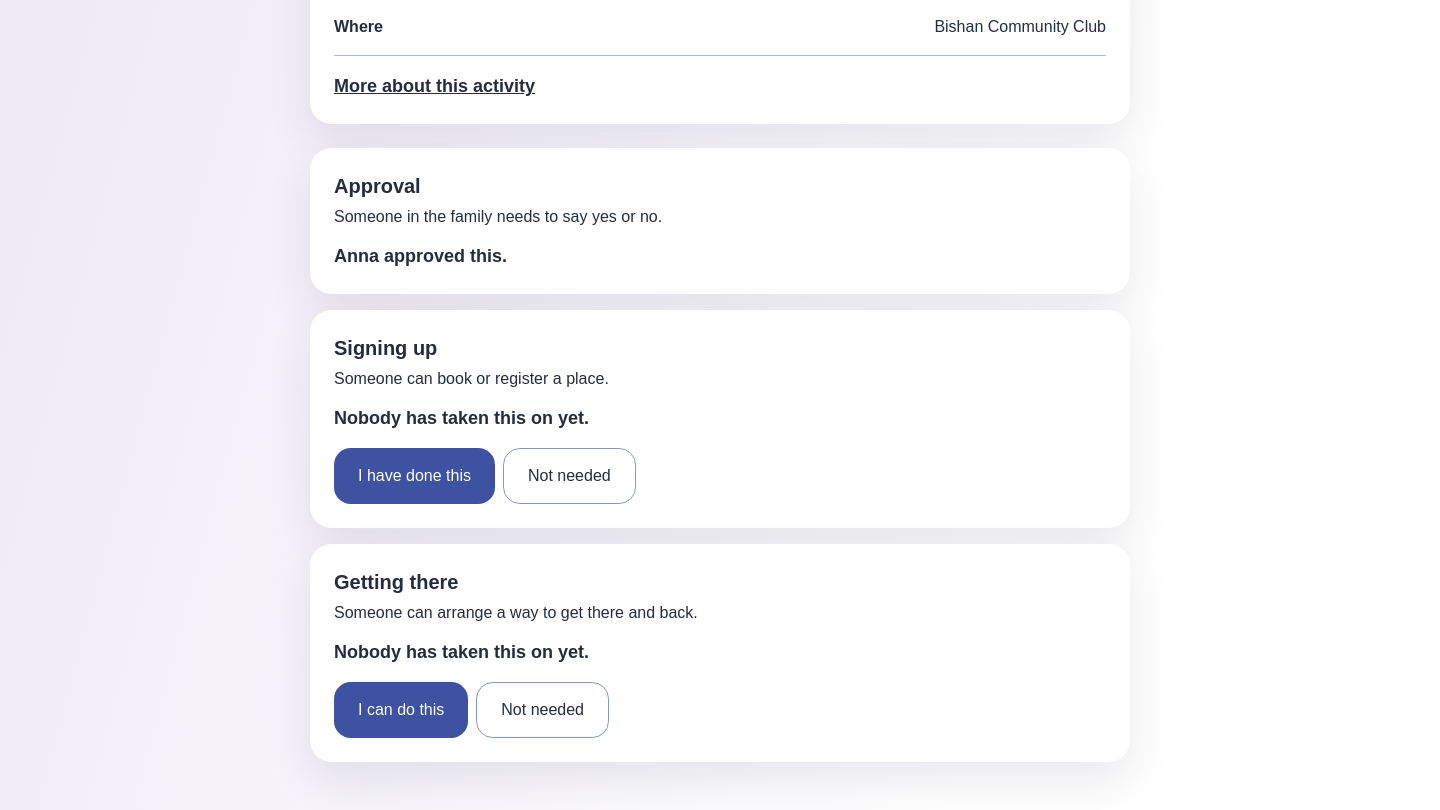
Scenario: CoordinationPage › signing up claims and completes the registration task in one click, with no offer step
(page scrolled)
Check: the button "I can do this" is shown, box [334,682,468,738]
Click the button "I have done this" at point(414, 476), box [334,448,495,504]
(page scrolled)
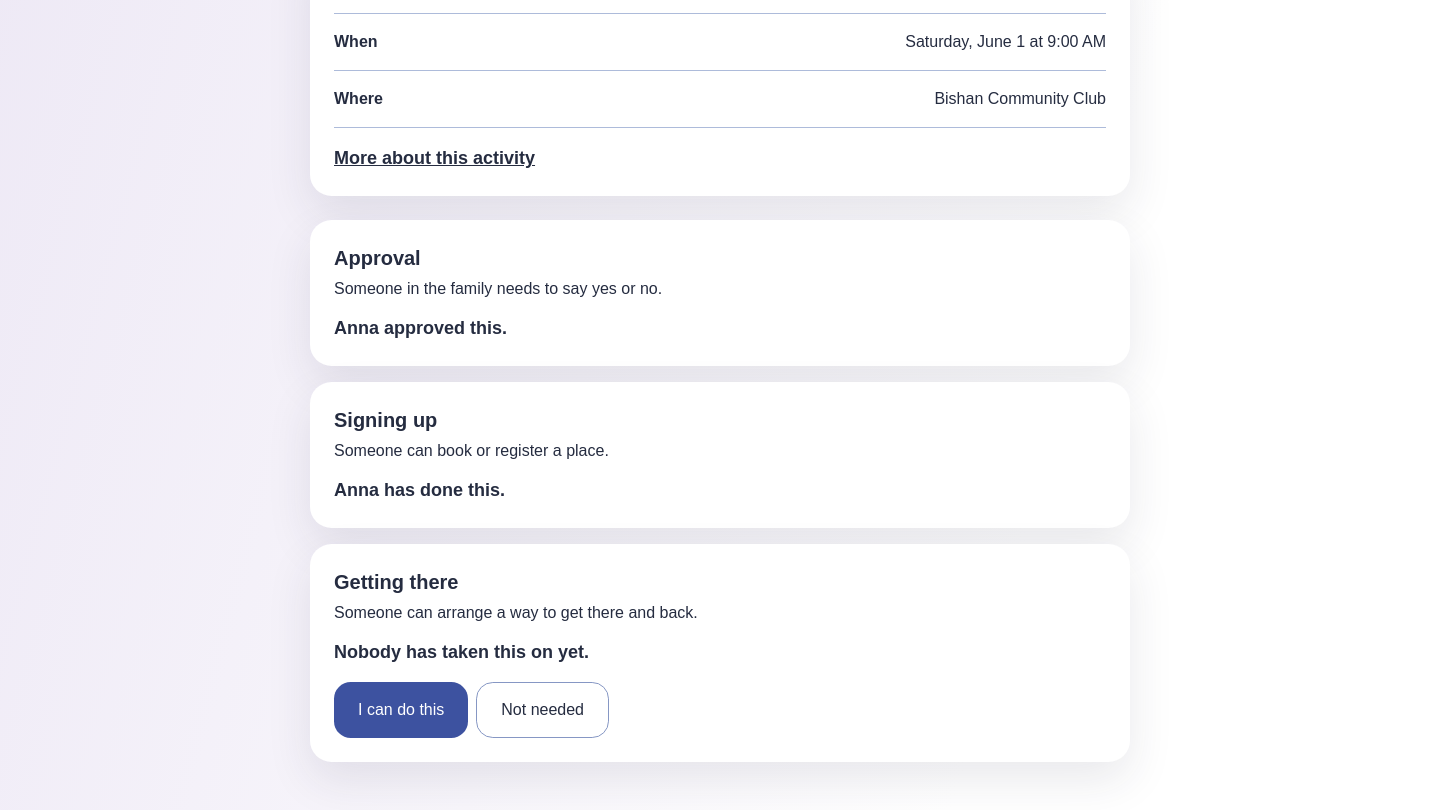
Check: the text "Anna has done this." is shown, box [334,480,505,500]
